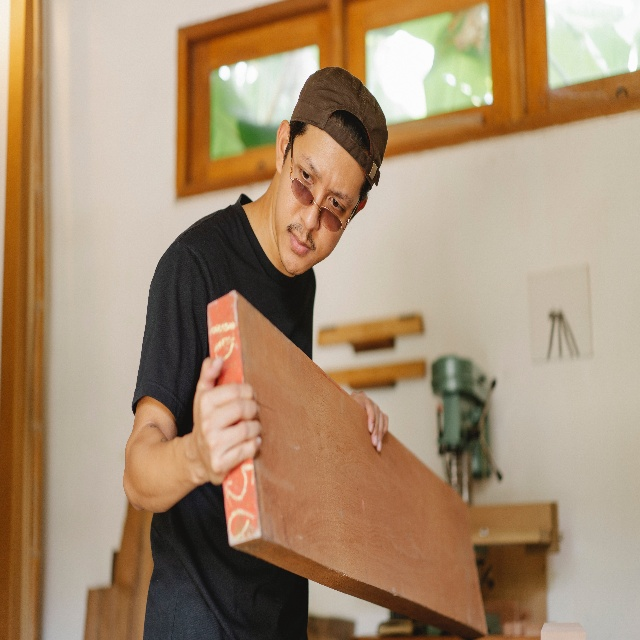Gafas: (290, 136, 361, 234)
Sin_guantes: (192, 357, 263, 486), (351, 390, 388, 452)
